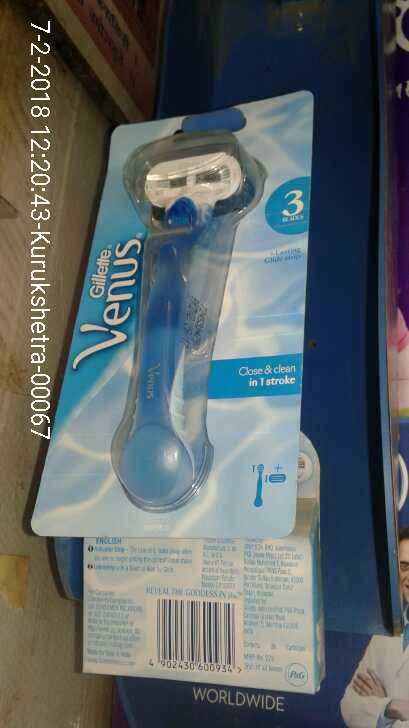venus: (31, 78, 317, 541)
